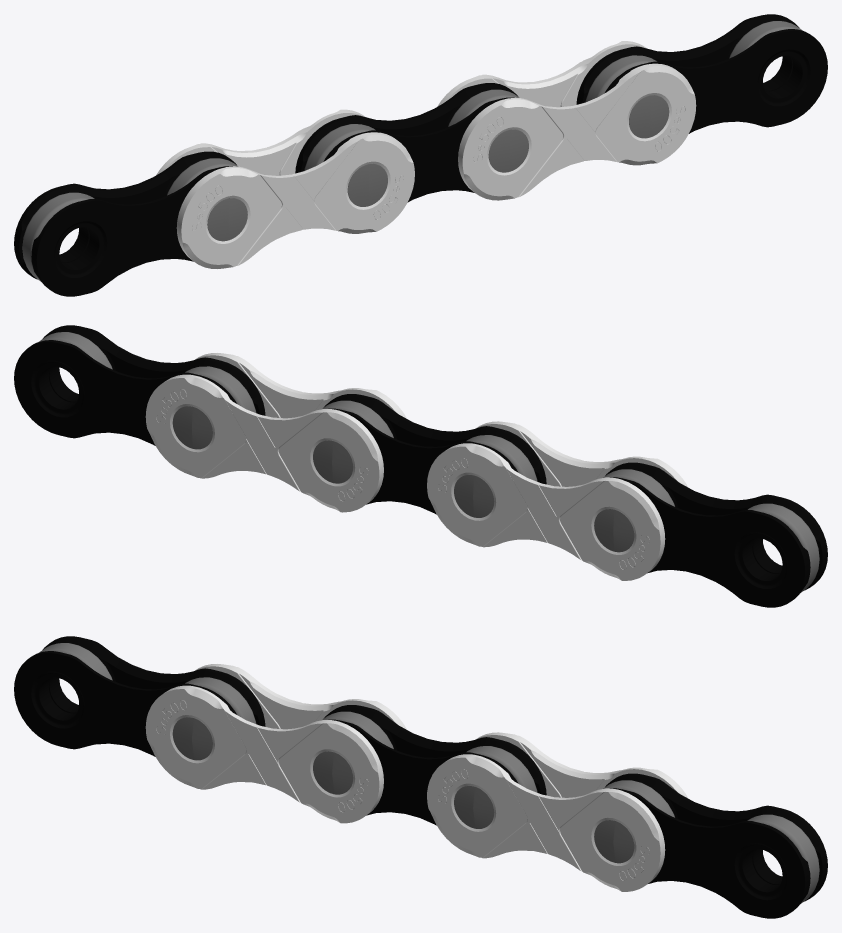
The model's file is Se500-Silver&Black.glb.
3 renders of one model, top to bottom at view 1: azimuth 30°, elevation 25°; view 2: azimuth 150°, elevation 25°; view 3: azimuth 330°, elevation 25°, orthographic.
Visible parts, largest first — view 1: 10SP(行銷需求)_body1-Silver2.PBR (×4), HG-401-RLP(行銷需求)_body1 (×6), HG-401-RL(行銷需求)_body1 (×6), 圓鉚軸(行銷)_body1 (×4); view 2: 10SP(行銷需求)_body1-Silver2.PBR (×4), HG-401-RLP(行銷需求)_body1 (×6), HG-401-RL(行銷需求)_body1 (×6), 圓鉚軸(行銷)_body1 (×4); view 3: 10SP(行銷需求)_body1-Silver2.PBR (×4), HG-401-RLP(行銷需求)_body1 (×6), HG-401-RL(行銷需求)_body1 (×6), 圓鉚軸(行銷)_body1 (×4).
Boxes of the visible parts, box(x1,y1,x2,y2) form: 10SP(行銷需求)_body1-Silver2.PBR (×4): box(156, 41, 696, 268); HG-401-RLP(行銷需求)_body1 (×6): box(14, 14, 827, 296); HG-401-RL(行銷需求)_body1 (×6): box(22, 21, 802, 281); 圓鉚軸(行銷)_body1 (×4): box(207, 95, 669, 241); 10SP(行銷需求)_body1-Silver2.PBR (×4): box(145, 353, 688, 580); HG-401-RLP(行銷需求)_body1 (×6): box(14, 325, 827, 607); HG-401-RL(行銷需求)_body1 (×6): box(39, 332, 819, 592); 圓鉚軸(行銷)_body1 (×4): box(172, 406, 634, 552); 10SP(行銷需求)_body1-Silver2.PBR (×4): box(145, 664, 688, 891); HG-401-RLP(行銷需求)_body1 (×6): box(14, 636, 827, 918); HG-401-RL(行銷需求)_body1 (×6): box(39, 643, 819, 903); 圓鉚軸(行銷)_body1 (×4): box(172, 717, 634, 863).
Size of the model in its own units: 7.12 by 0.84 by 0.575.
Materials: 3 (2 with a texture image).
